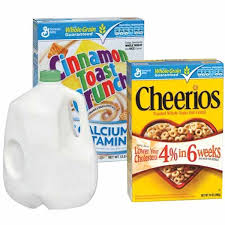milk: (8, 71, 101, 209)
